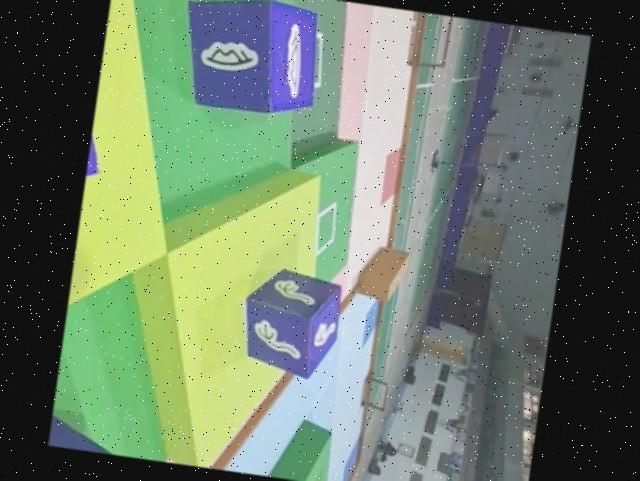R2 Real Blue: (171, 0, 326, 121), (233, 260, 344, 378), (48, 406, 148, 459)
